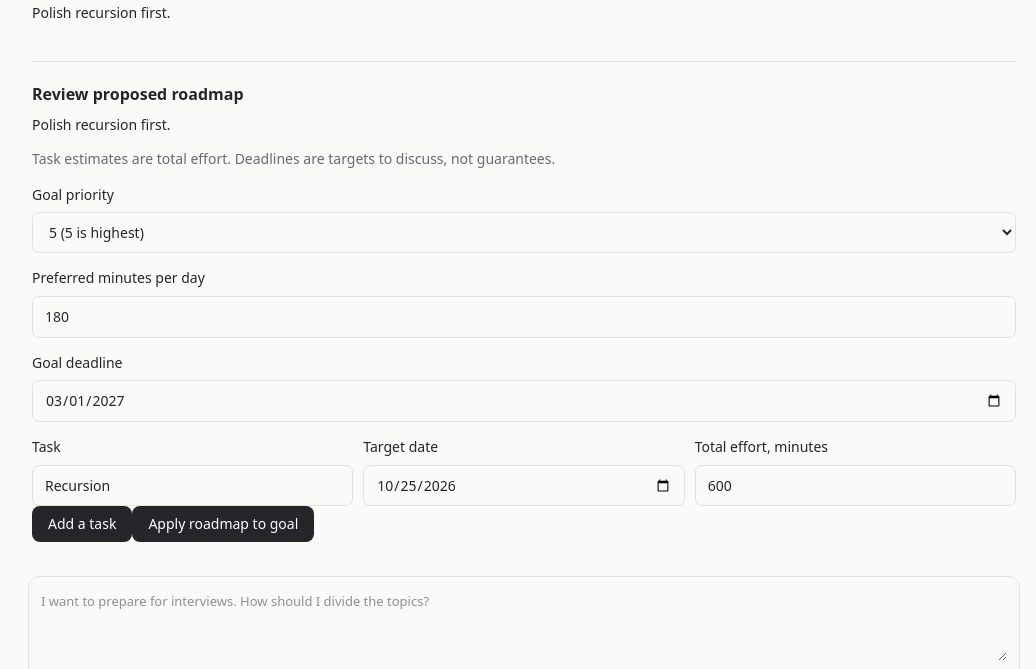
Scenario: goal and preference interactions › applies a reviewed roadmap to the goal sheet without a fake user reply
(page scrolled)
Step 1. Click the button "Apply roadmap to goal" → [223, 524], box [132, 506, 314, 542]
(page scrolled)
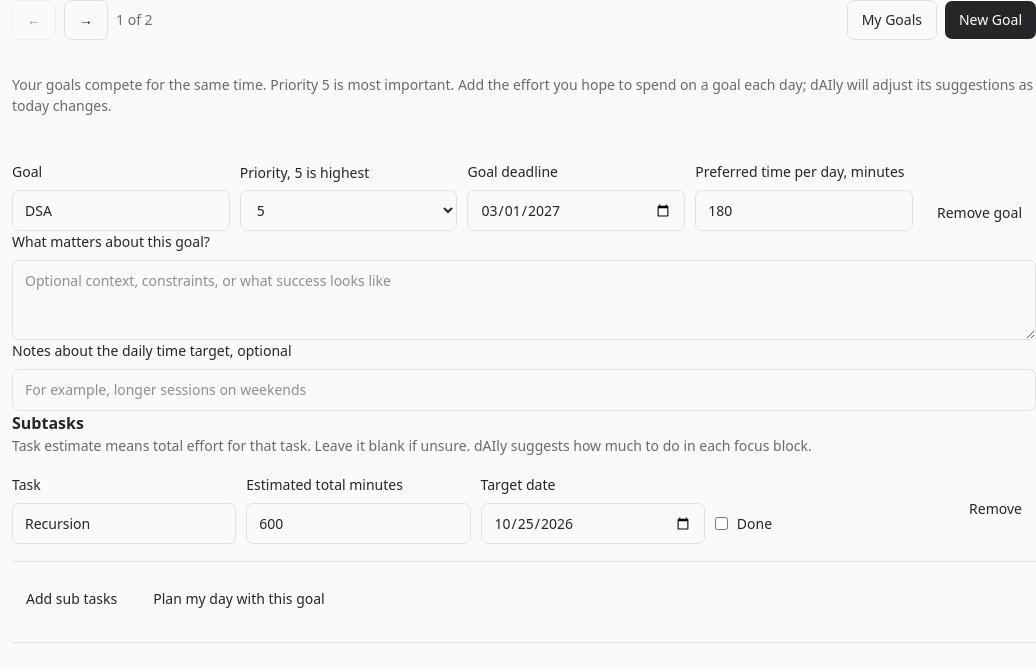
Expected: the number field labelled "Preferred time per day, minutes" holds "180", [695, 190, 913, 232]
Expected: the date field labelled "Goal deadline" holds "2027-03-01", [468, 190, 685, 232]
Expected: the number field labelled "Estimated total minutes" holds "600", [246, 503, 471, 544]
Step 2. Click the button named "Next goal" → [86, 20], box [64, 0, 108, 40]
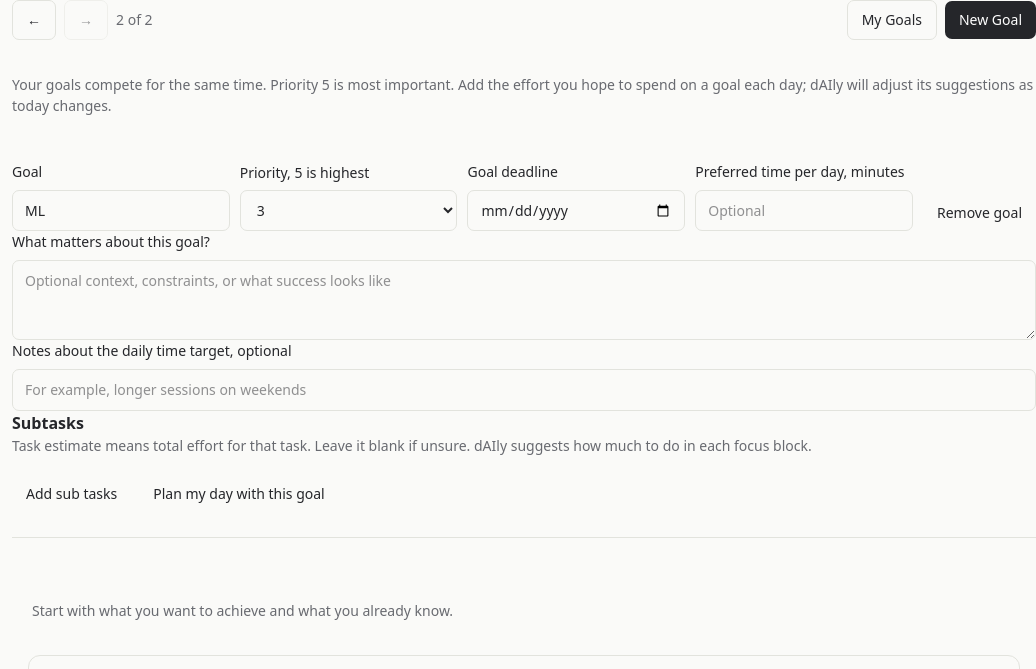
Step 3. Click the button named "Previous goal" → [34, 20], box [12, 0, 56, 40]
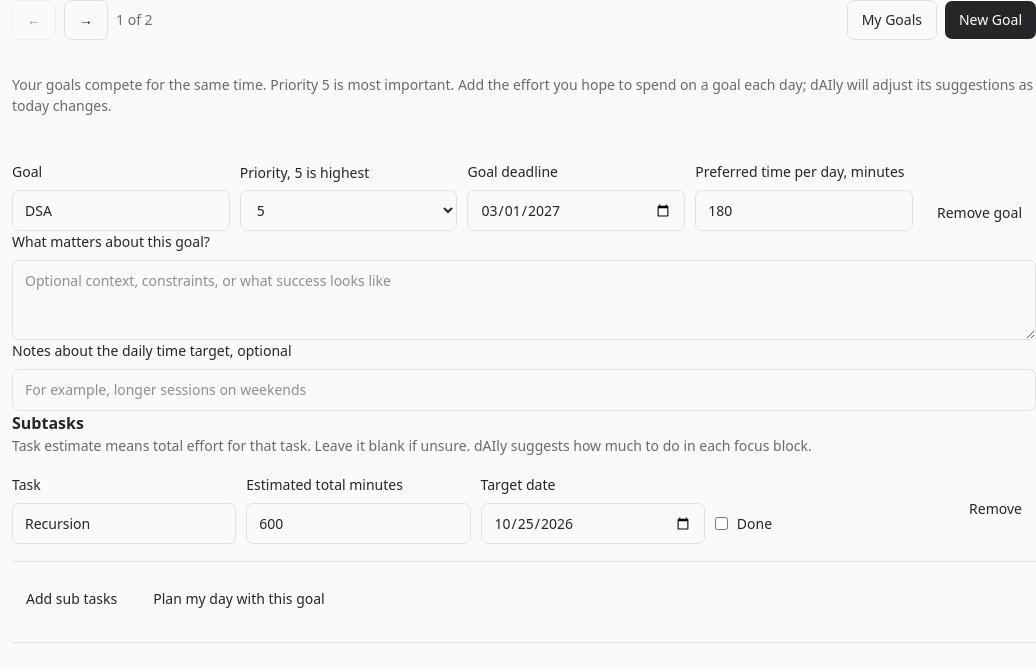
Expected: the button "Apply roadmap to goal" is not shown
Expected: the number field labelled "Preferred time per day, minutes" holds "180", [695, 190, 913, 232]
